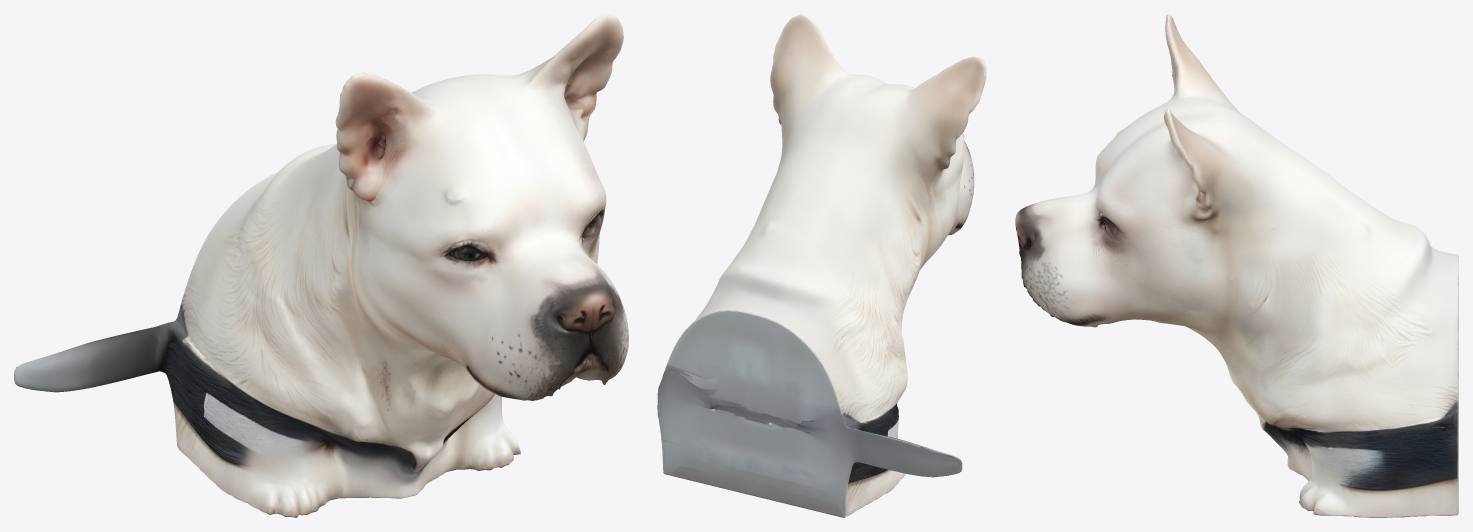
Rendered from dog3.glb.
3 views of the same model, side by side, from view 1: azimuth 30°, elevation 25°; view 2: azimuth 150°, elevation 25°; view 3: azimuth 270°, elevation 25° (orthographic). The views are drawn at different scales.
Parts seen in each view (by area): view 1: Mesh; view 2: Mesh; view 3: Mesh.
Part boxes in pixels (bbox=[...]): Mesh: bbox=[14, 14, 628, 517]; Mesh: bbox=[657, 14, 986, 517]; Mesh: bbox=[1015, 14, 1458, 517].
Size of the model in its own units: 1.7 by 1.91 by 1.9.
Materials: 1 (1 with a texture image).
